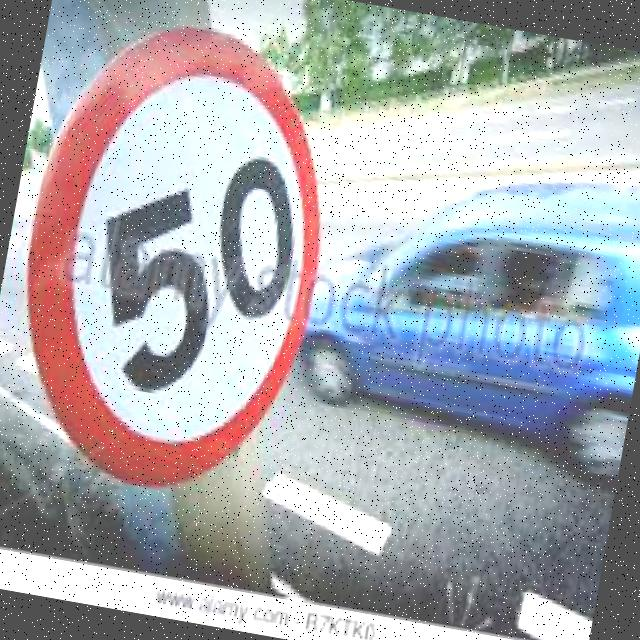Ograniczenie predkosci do 50: (0, 16, 348, 492)
